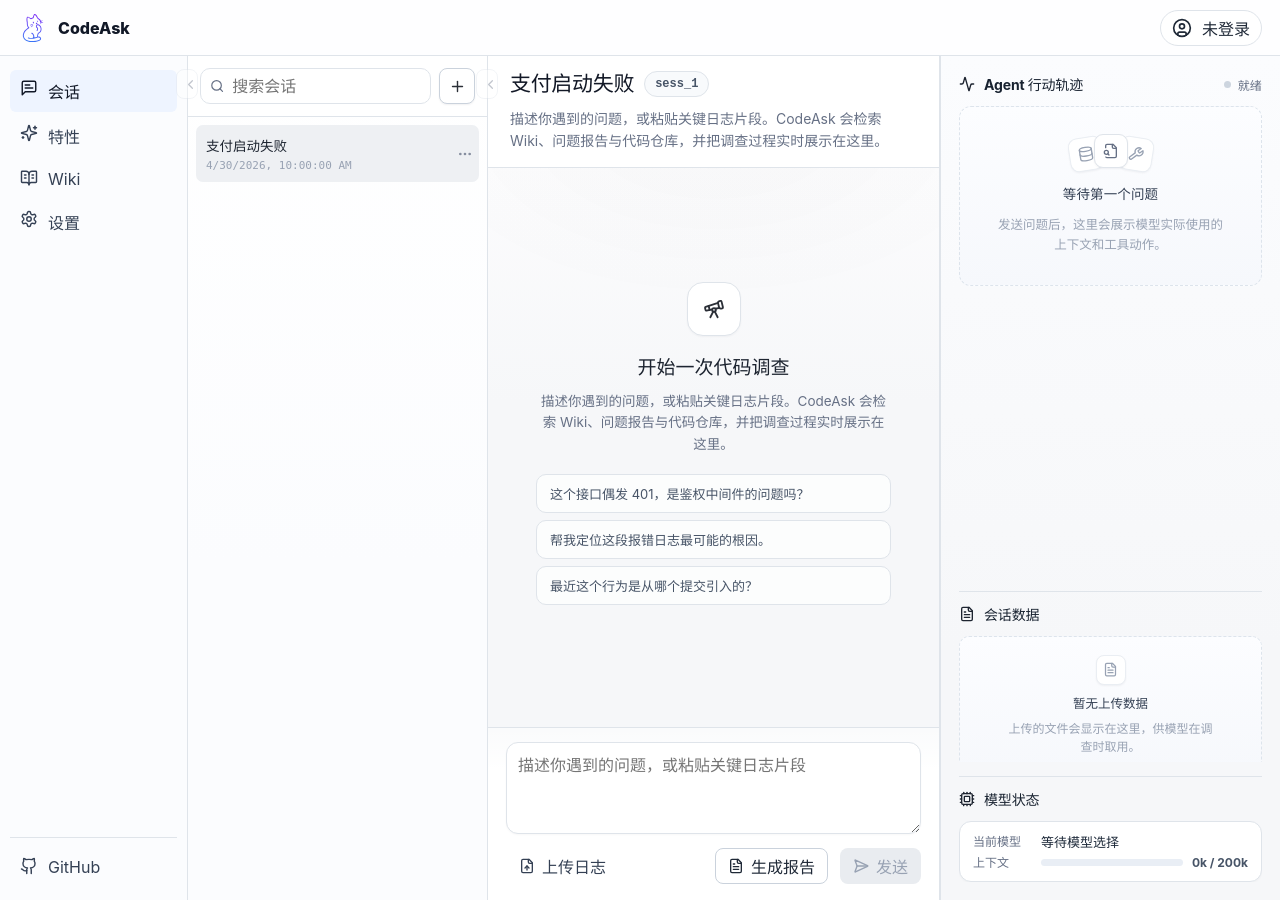
Test: SessionWorkspace streaming interaction › confirms report generation with a feature and links to the generated report
Check: the text "支付启动失败" is shown, box [206,135,287,155]
In the text box named "会话输入": (714, 788) [506,742,921,834], type "支付服务启动失败"
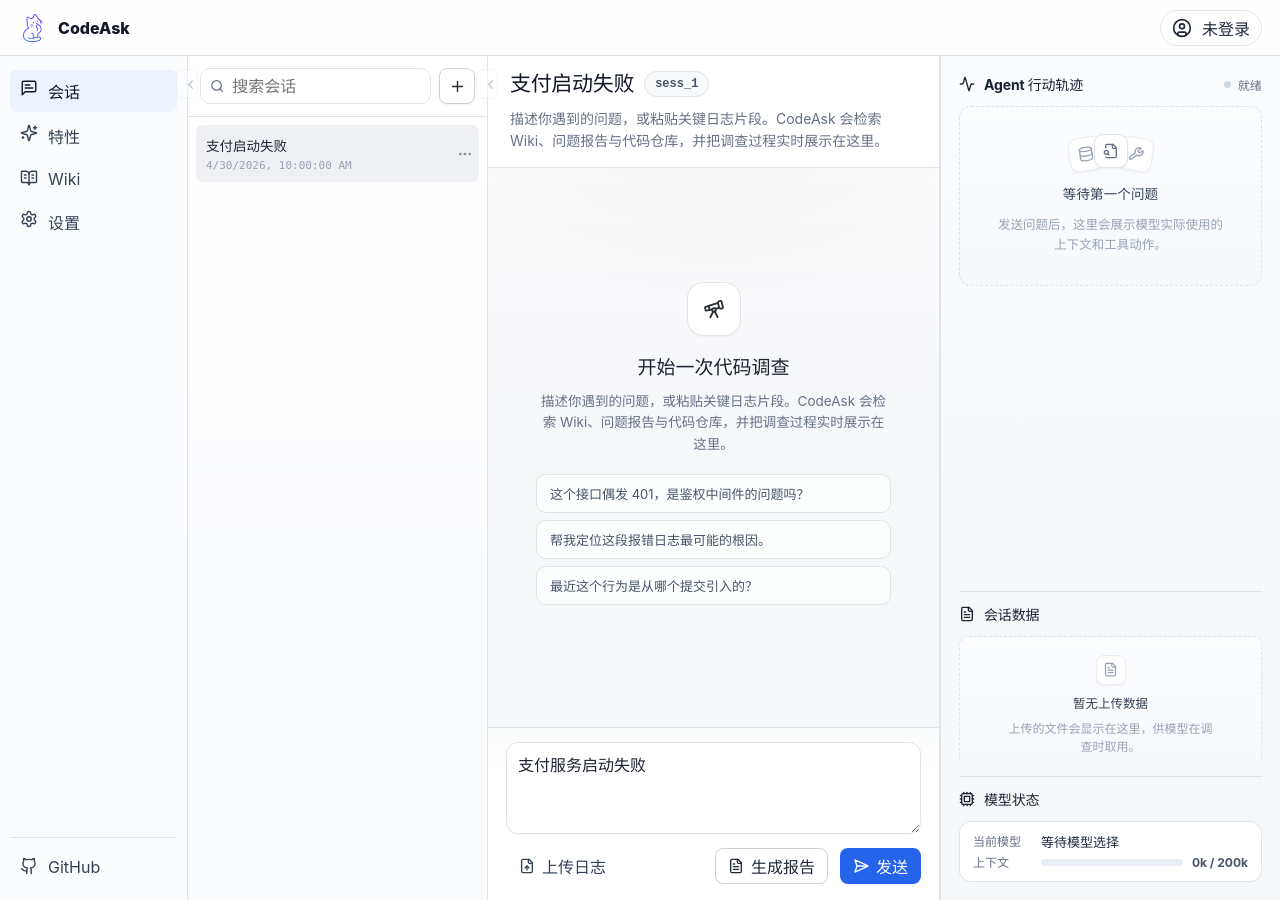
Click the button "发送": (880, 866) [840,848,921,884]
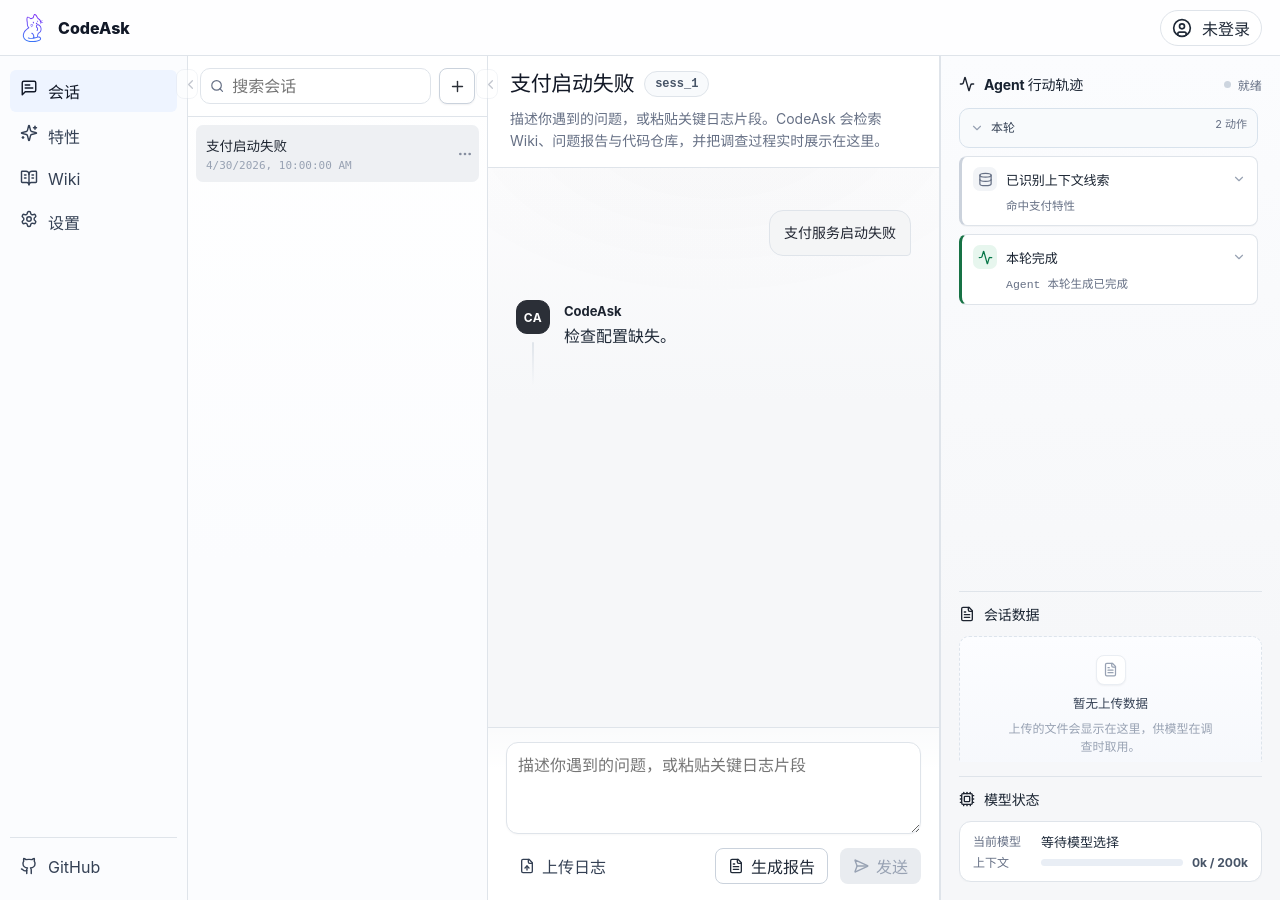
Check: the text "检查配置缺失。" is shown, box [564,326,676,346]
Click the button "生成报告": (772, 866) [715,848,828,884]
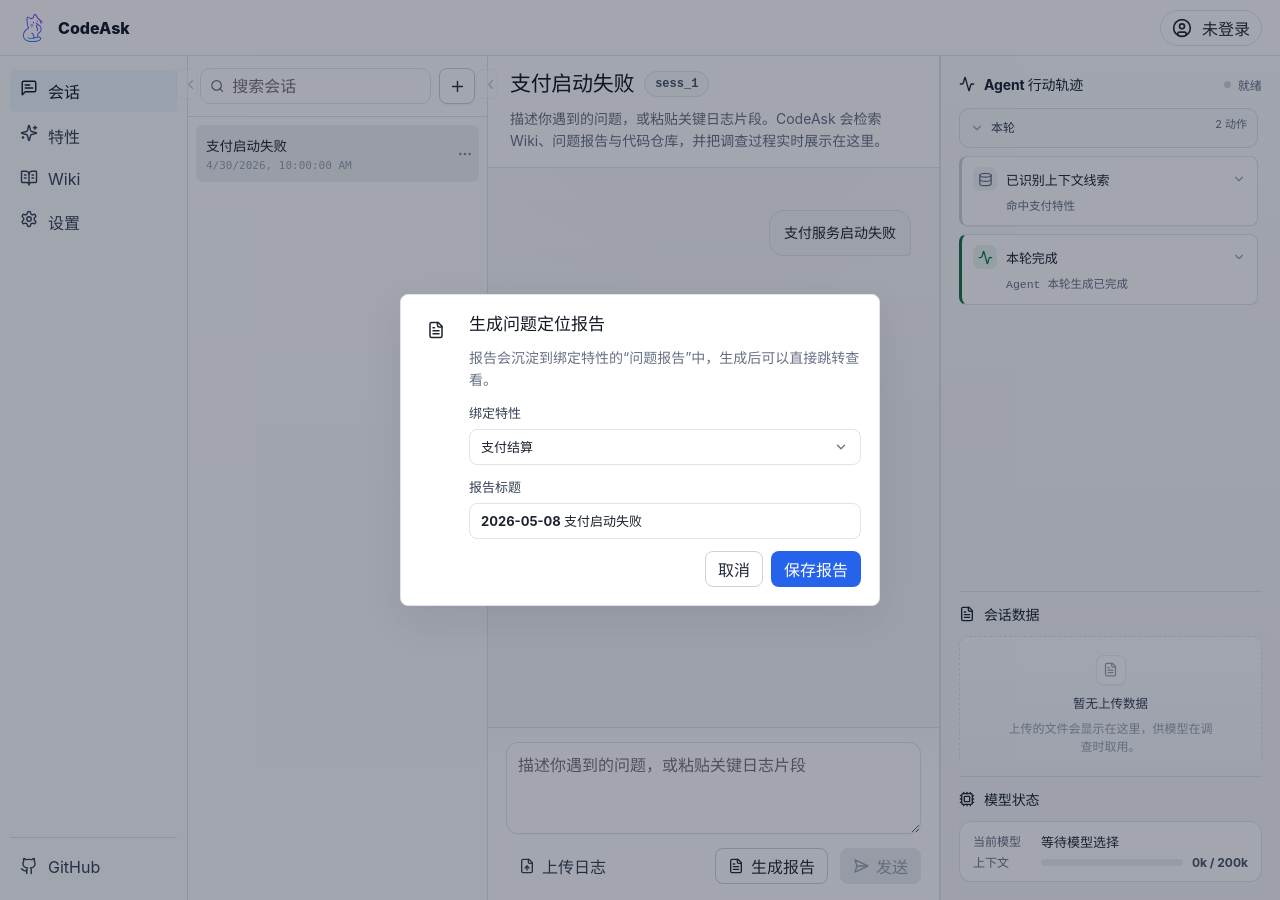
Check: the dialog "生成问题定位报告" is shown, box [400,294,880,606]
Check: the dropdown labelled "绑定特性" shows "支付结算", box [469,429,861,465]
Check: the field labelled "报告标题" holds "2026-05-08 支付启动失败", box [469,503,861,539]
Click the button "保存报告": (816, 569) [771,551,861,587]
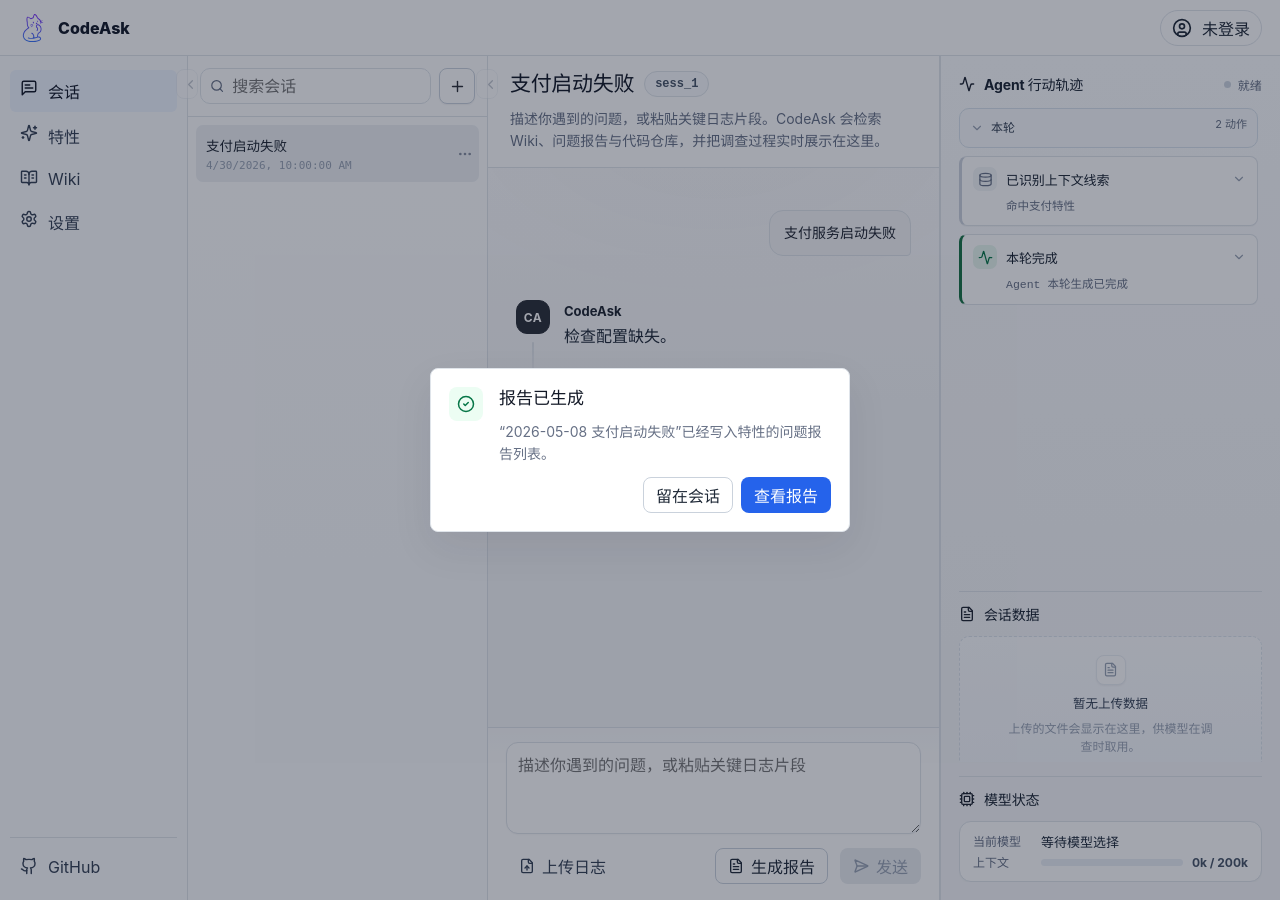
Check: the dialog "报告已生成" is shown, box [430,368,850,532]
Click the button "查看报告": (786, 495) [741,477,831,513]
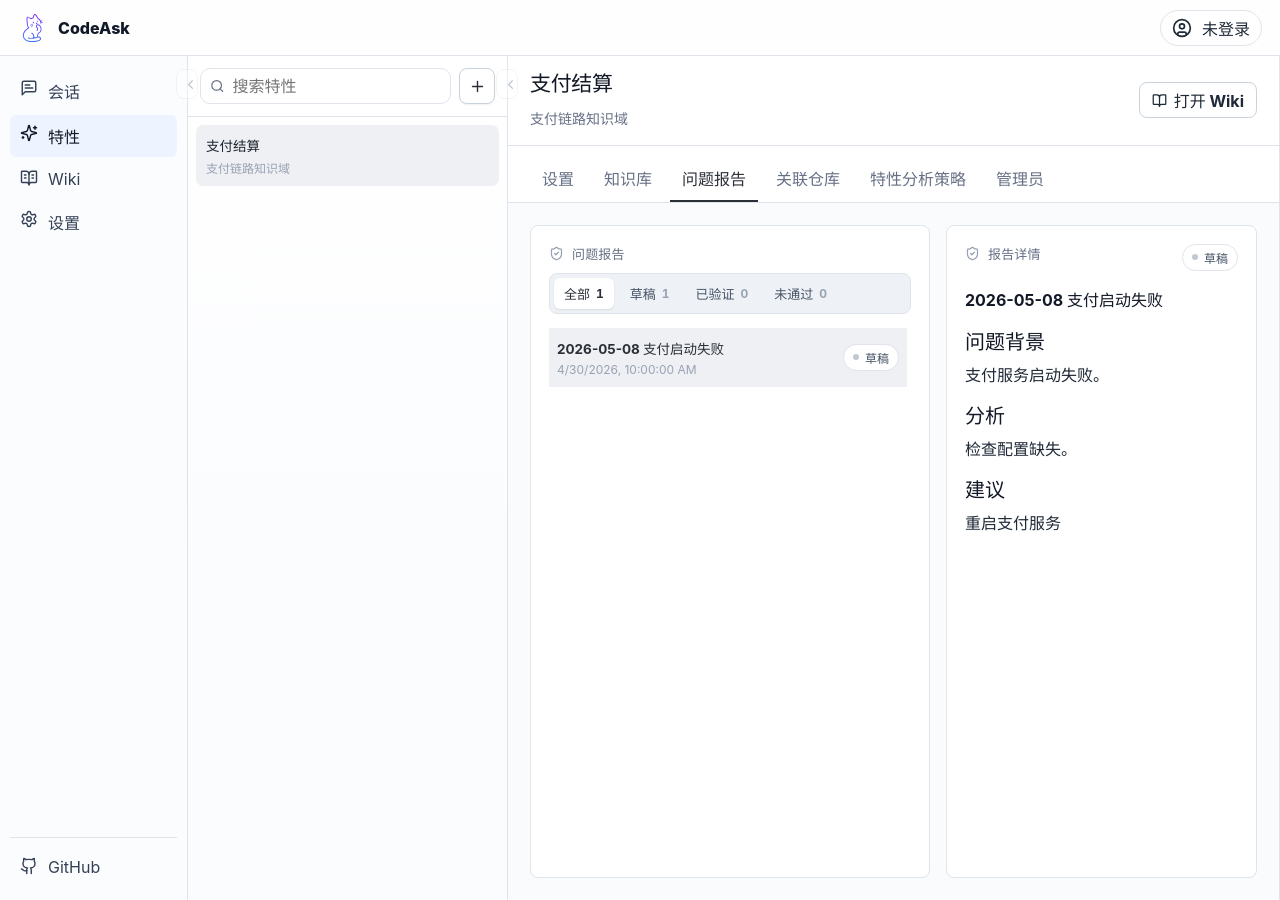
Check: the tab "问题报告" is shown, box [670,156,758,202]
Check: the button "2026-05-08 支付启动失败 4/30/2026, 10:00:00 AM" is shown, box [557,338,831,377]
Check: the heading "问题背景" is shown, box [965,330,1045,354]
